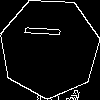I: (24, 23, 70, 40)
